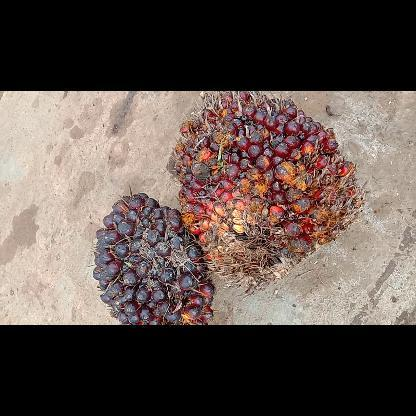TBS masak: (171, 90, 365, 290)
TBS mentah: (92, 194, 214, 324)
